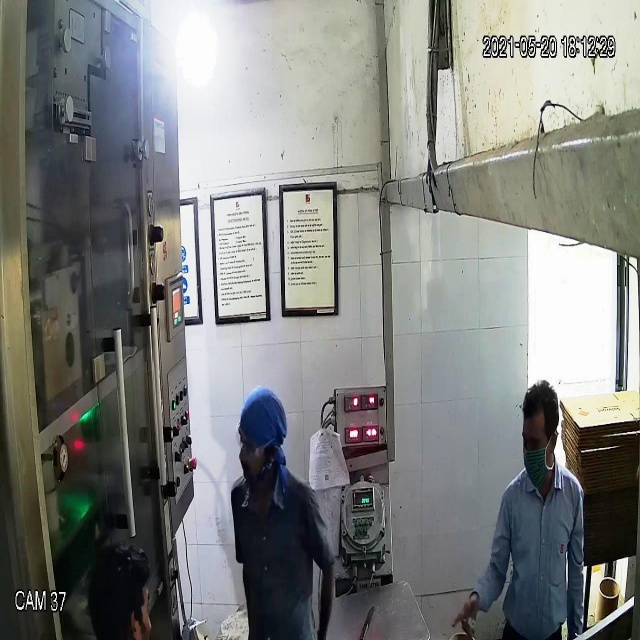Gafas: (233, 426, 278, 458)
Sin_gafas: (516, 425, 557, 460)
